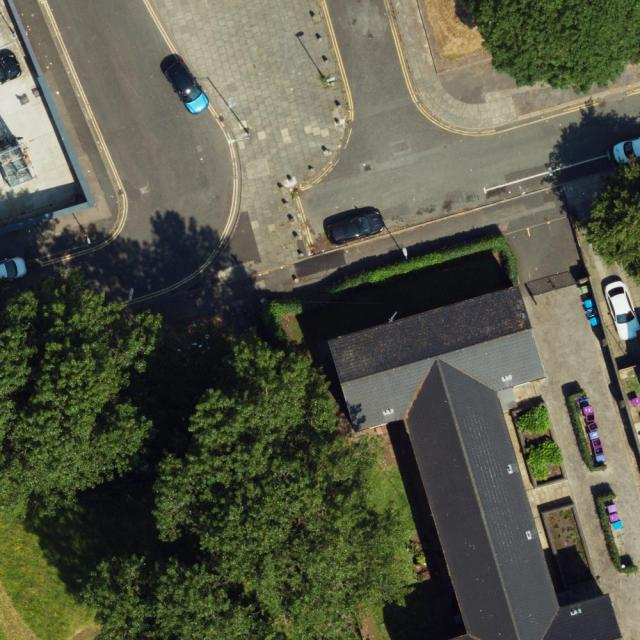roof: (326, 283, 624, 640)
